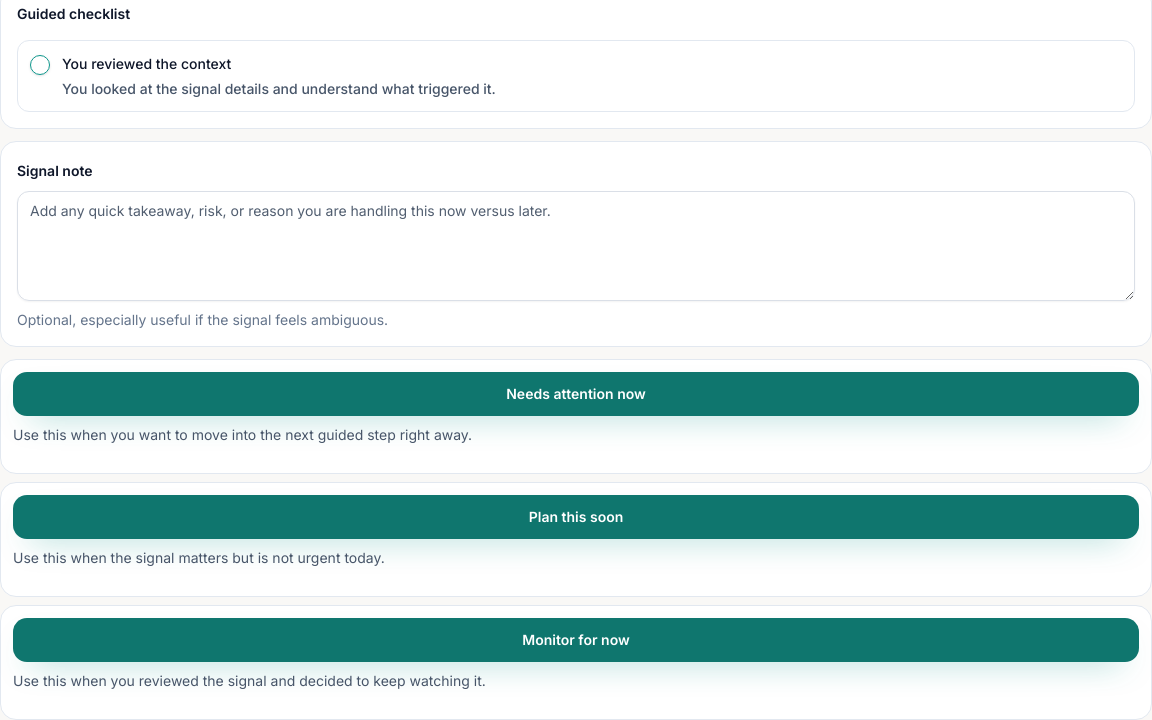
Test: the signal review step is recorded as a typed acknowledgement, never as free-form completion data › a failed acknowledgement says so and does not move on
This screenshot has width=1152, height=720.
(page scrolled)
Click the button "Monitor for now" at (576,640), box 13,618 -> 1139,662
(page scrolled)
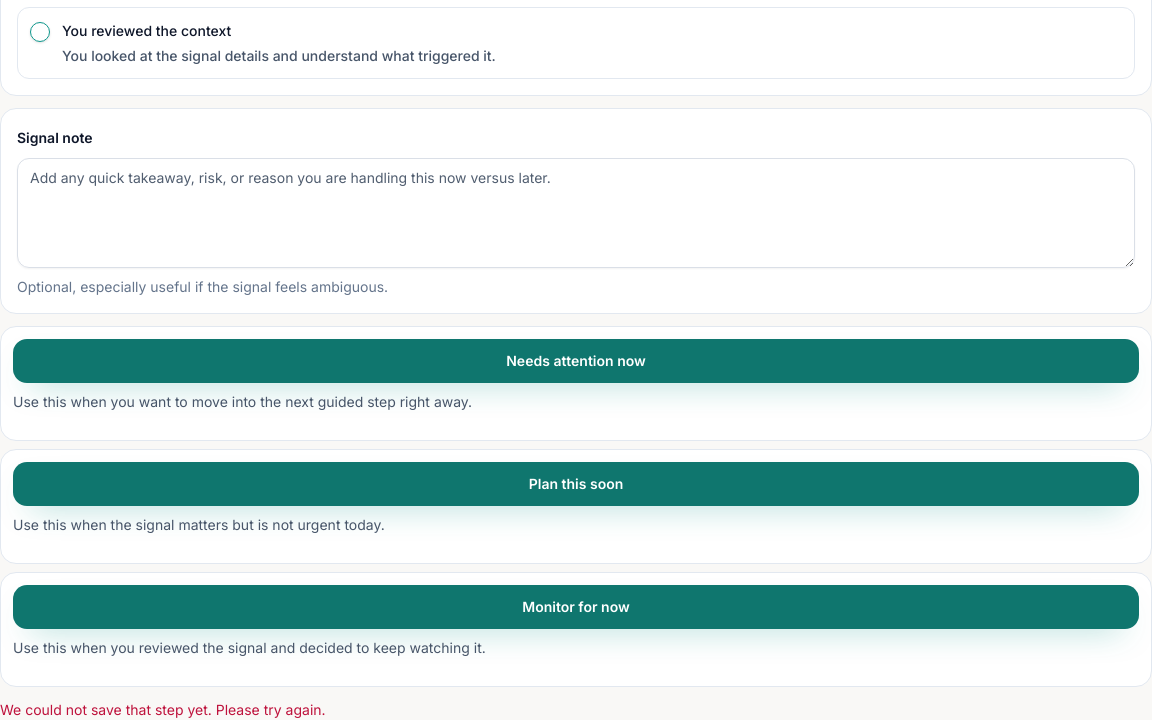
Now the text "We could not save that step yet. Please try again." is shown, box 0,701 -> 326,718
